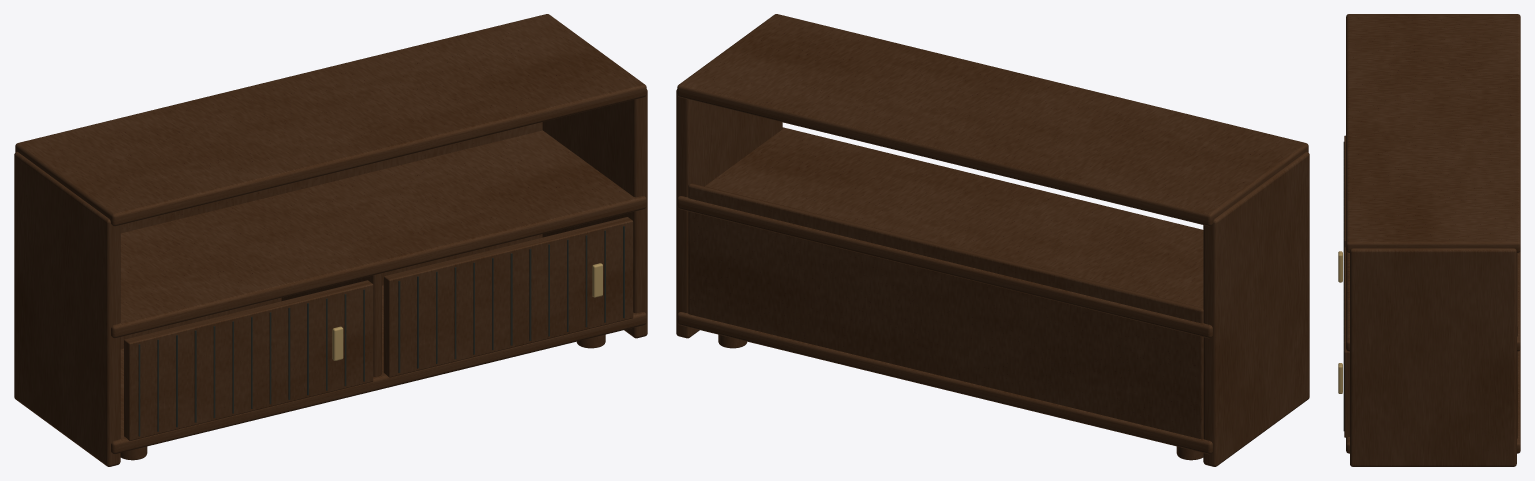
File: entertainment_center.glb
3 renders of one model, left to right at view 1: azimuth 30°, elevation 25°; view 2: azimuth 150°, elevation 25°; view 3: azimuth 270°, elevation 25°, orthographic. The views are drawn at different scales.
Visible parts, largest first — view 1: Cabinet shelf.002, Cabinet shelf.001, Cabinet side, Slatted door.001, Slatted door, Cabinet side.001, Cabinet shelf, Inset back with cable opening, Centre divider; view 2: Inset back with cable opening, Cabinet shelf.002, Cabinet shelf.001, Cabinet side, Cabinet side.001, Cabinet shelf; view 3: Cabinet shelf.002, Cabinet side.001, Slatted door.001, Cabinet shelf.001, Cabinet shelf, Slatted door.
Boxes of the visible parts, bbox=[...] form: Cabinet shelf.002: bbox=[15, 14, 646, 226]; Cabinet shelf.001: bbox=[111, 130, 646, 338]; Cabinet side: bbox=[14, 152, 120, 466]; Slatted door.001: bbox=[383, 217, 633, 377]; Slatted door: bbox=[124, 280, 373, 440]; Cabinet side.001: bbox=[542, 89, 647, 338]; Cabinet shelf: bbox=[111, 285, 646, 454]; Inset back with cable opening: bbox=[120, 122, 542, 349]; Centre divider: bbox=[281, 273, 381, 376]; Inset back with cable opening: bbox=[688, 183, 1203, 439]; Cabinet shelf.002: bbox=[677, 14, 1308, 226]; Cabinet shelf.001: bbox=[677, 127, 1212, 338]; Cabinet side: bbox=[1203, 152, 1309, 466]; Cabinet side.001: bbox=[676, 89, 782, 338]; Cabinet shelf: bbox=[677, 312, 1212, 454]; Cabinet shelf.002: bbox=[1346, 14, 1520, 252]; Cabinet side.001: bbox=[1350, 248, 1516, 466]; Slatted door.001: bbox=[1344, 247, 1349, 437]; Cabinet shelf.001: bbox=[1346, 250, 1520, 351]; Cabinet shelf: bbox=[1346, 349, 1520, 453]; Slatted door: bbox=[1344, 135, 1345, 247].
Bounding box in the file's own units: 1.42 × 0.656 × 0.47.
3 materials, 1 textured.
